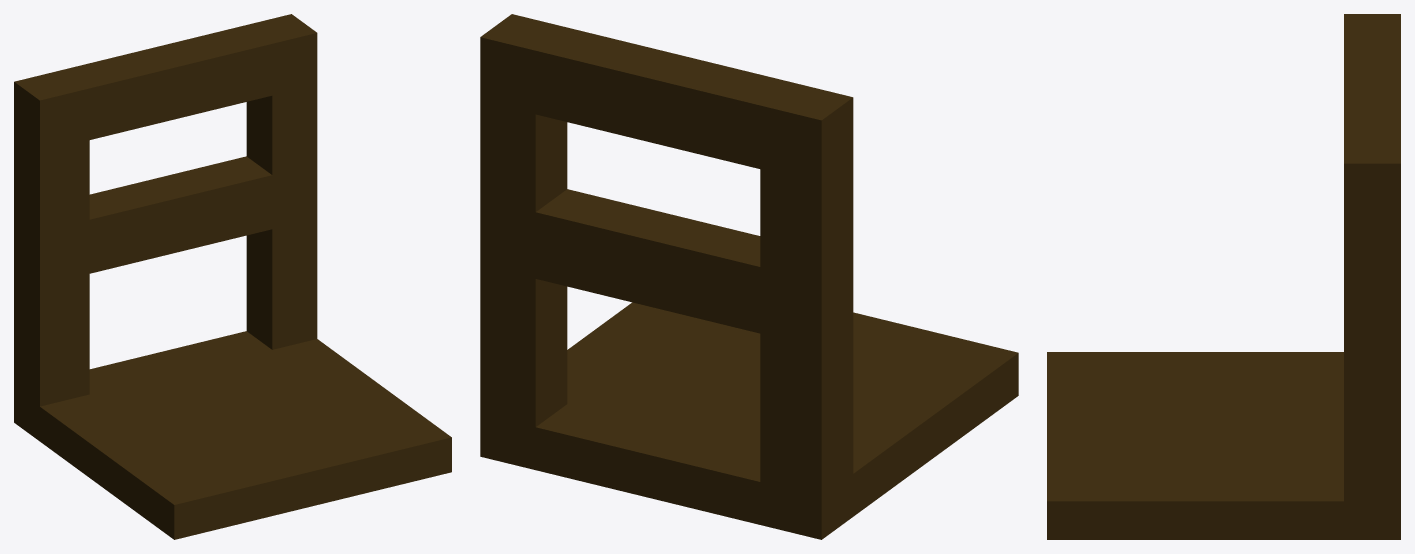
The model's file is Chair 1.fbx.
3 renders of one model, left to right at view 1: azimuth 30°, elevation 25°; view 2: azimuth 150°, elevation 25°; view 3: azimuth 270°, elevation 25°, orthographic. The views are drawn at different scales.
Parts seen in each view (by area): view 1: Cube; view 2: Cube; view 3: Cube.
Part boxes in pixels (bbox=[...]): Cube: bbox=[14, 14, 451, 539]; Cube: bbox=[480, 14, 1018, 539]; Cube: bbox=[1047, 14, 1400, 539].
Bounding box in the file's own units: 97.07 × 114 × 97.07.
